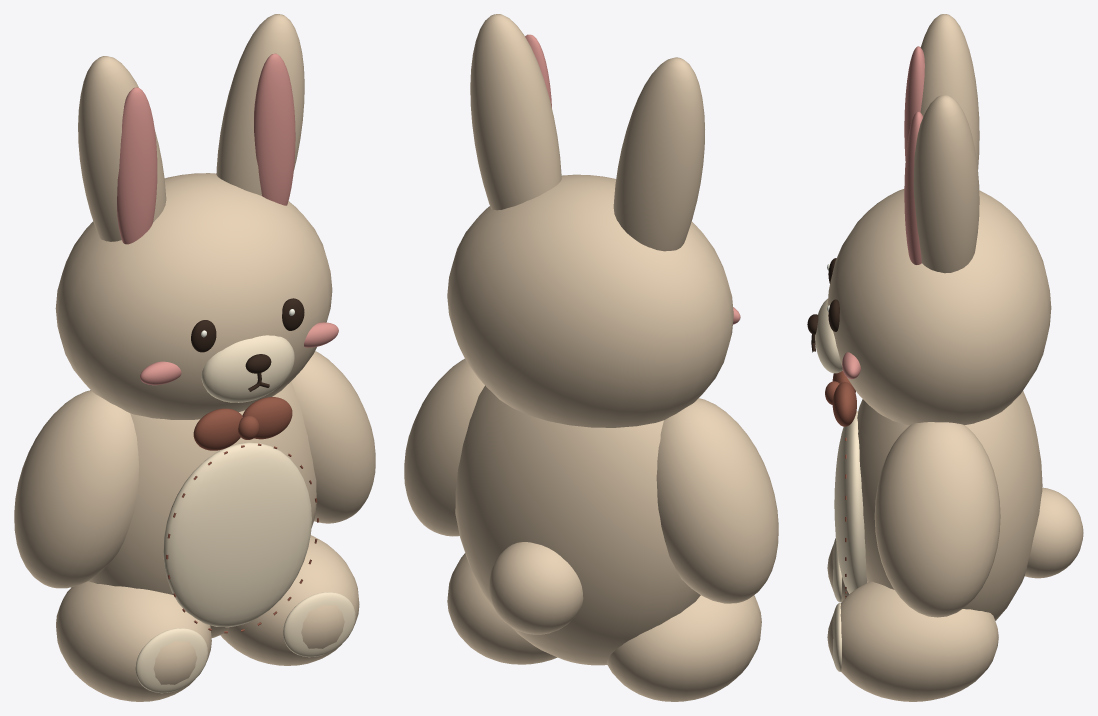
File: bunny.glb
3 views of the same model, side by side, from view 1: azimuth 30°, elevation 25°; view 2: azimuth 150°, elevation 25°; view 3: azimuth 270°, elevation 25° (orthographic). The views are drawn at different scales.
Parts seen in each view (by area): view 1: head, arm (×2), belly_patch, foot (×2), long_ear (×2), pear_body, ear_lining (×2), paw (×2), muzzle, bow_left, cheek (×2), bow_right (+1 smaller); view 2: head, pear_body, arm (×2), long_ear (×2), foot (×2), tail; view 3: head, arm, long_ear (×2), foot, pear_body, belly_patch, tail, ear_lining (×2), muzzle, bow_right, paw.
Boxes of the visible parts, x1,y1,x2,y2 form: head: (55,173,332,419); arm (×2): (14,351,375,588); belly_patch: (163,442,311,627); foot (×2): (56,535,359,701); long_ear (×2): (78,14,304,241); pear_body: (88,381,316,637); ear_lining (×2): (117,53,295,244); paw (×2): (135,592,355,693); muzzle: (201,335,294,402); bow_left: (193,408,242,450); cheek (×2): (140,322,338,385); bow_right: (242,397,292,439); head: (447,174,733,427); pear_body: (455,385,700,665); arm (×2): (404,358,778,603); long_ear (×2): (470,14,704,251); foot (×2): (447,553,761,701); tail: (489,542,583,634); head: (827,189,1051,425); arm: (874,422,1000,617); long_ear (×2): (913,14,979,273); foot: (827,581,998,701); pear_body: (857,391,1042,620); belly_patch: (834,411,867,593); tail: (1025,487,1083,578); ear_lining (×2): (904,46,924,264); muzzle: (815,298,842,373); bow_right: (832,382,856,426); paw: (833,603,841,671).
Bounding box in the file's own units: 1.1 × 1.9 × 0.789.
